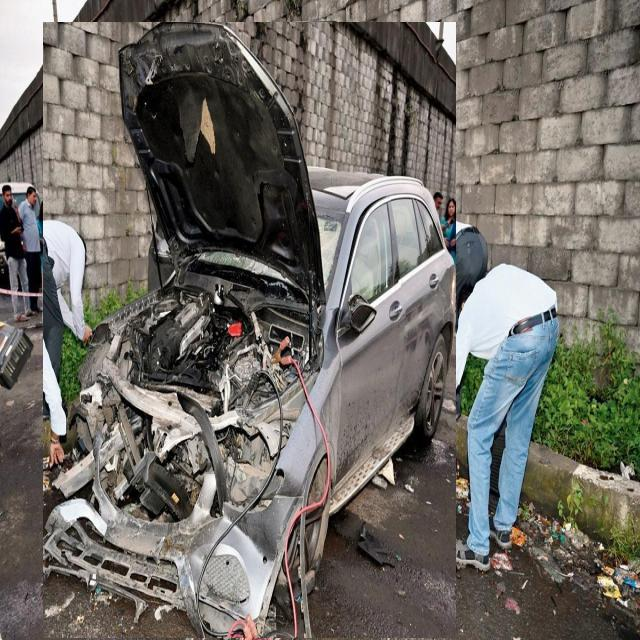accident: (43, 22, 455, 638)
